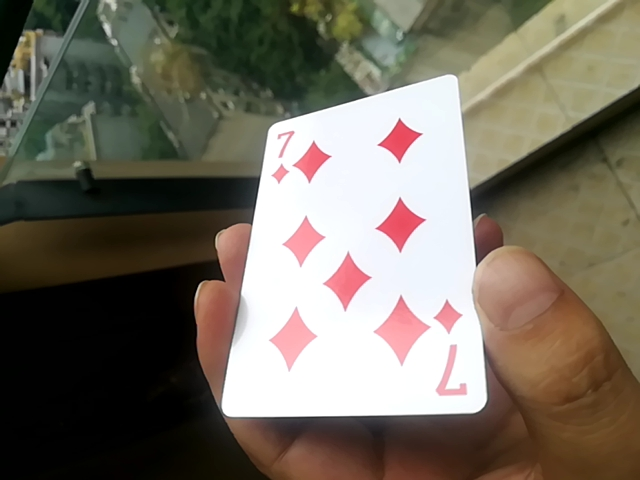fk 7: (230, 84, 484, 423)
